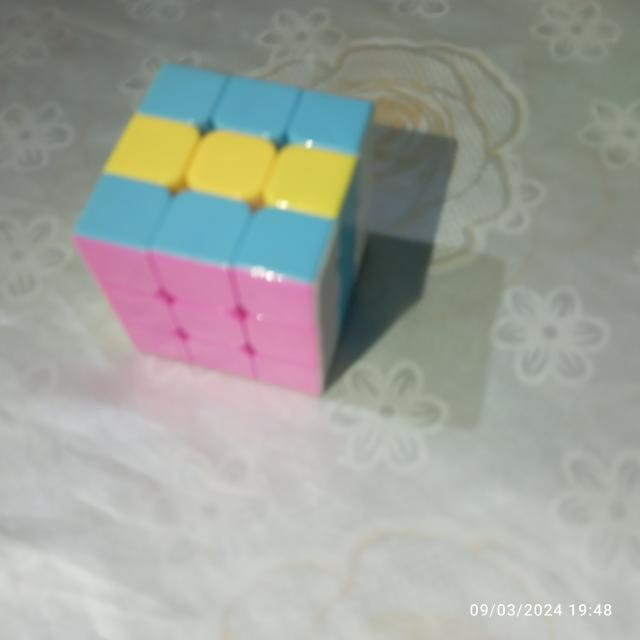Rub: (62, 60, 380, 402)
